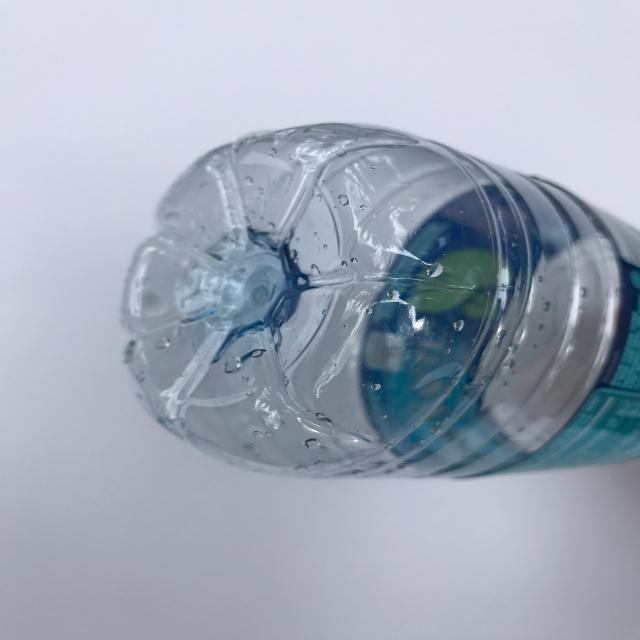plastic: (119, 121, 640, 480)
